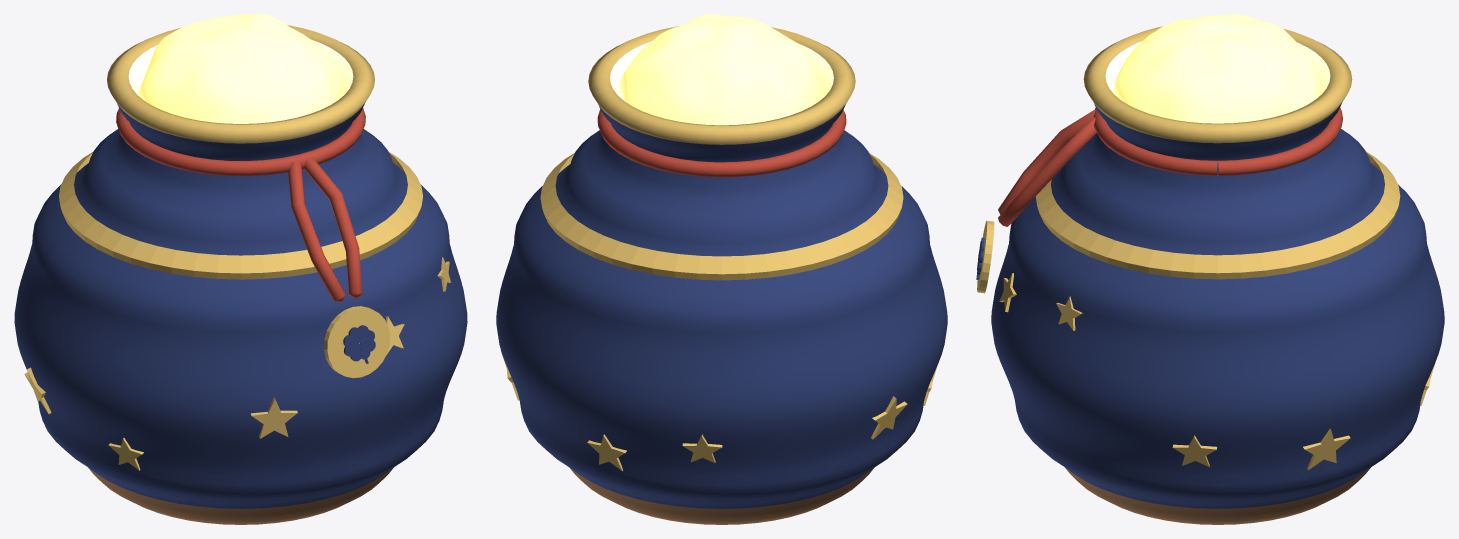
The model's file is yeast.glb.
3 renders of one model, left to right at view 1: azimuth 30°, elevation 25°; view 2: azimuth 150°, elevation 25°; view 3: azimuth 270°, elevation 25°, orthographic.
Parts seen in each view (by area): view 1: YS_Pot, YS_Dough, YS_Cord, YS_Tag; view 2: YS_Pot, YS_Dough, YS_Cord; view 3: YS_Pot, YS_Dough, YS_Cord, YS_Tag.
Part boxes in pixels (left/top/right/bottom): YS_Pot: left=14, top=25, right=467, bottom=524; YS_Dough: left=138, top=14, right=342, bottom=123; YS_Cord: left=116, top=108, right=365, bottom=301; YS_Tag: left=324, top=306, right=390, bottom=378; YS_Pot: left=496, top=26, right=947, bottom=524; YS_Dough: left=619, top=14, right=819, bottom=125; YS_Cord: left=597, top=109, right=846, bottom=177; YS_Pot: left=991, top=26, right=1444, bottom=524; YS_Dough: left=1114, top=14, right=1320, bottom=123; YS_Cord: left=998, top=107, right=1342, bottom=226; YS_Tag: left=976, top=220, right=994, bottom=293.
Size of the model in its own units: 0.2499 by 0.2692 by 0.2582.
